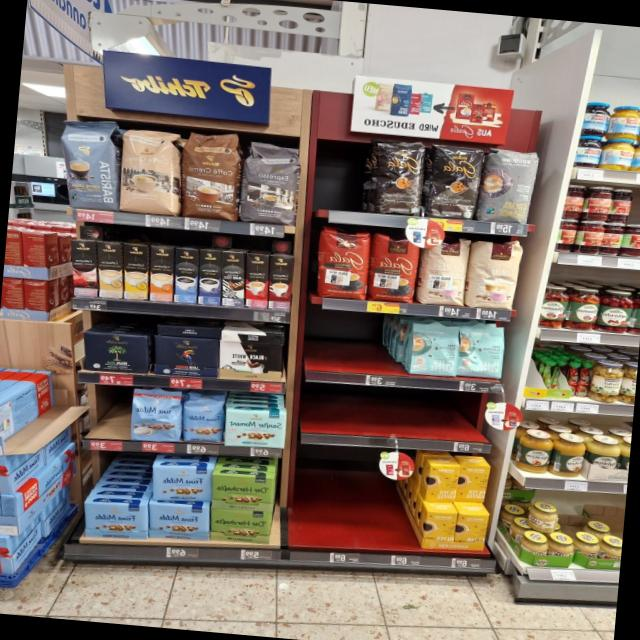BM Gemahlen: (82, 330, 149, 374)
BW Gemahlen: (217, 339, 283, 382)
Barista CC: (56, 116, 125, 214)
CC Mild: (116, 126, 184, 216)
CC Vollmundig 36 Pads: (175, 127, 246, 223)
Empty Shelf: (88, 386, 131, 439)
Espresso M Art: (236, 138, 304, 229)
FM 36 Pads: (128, 385, 186, 446)
FM Bohne: (182, 390, 226, 444)
FM Gemahlen: (148, 502, 210, 541), (82, 501, 147, 538), (151, 465, 211, 501)
Herzhatfe Mundig: (210, 473, 273, 512), (209, 507, 272, 544)
LG Gemahlen: (153, 334, 220, 379)
SM Gemahlen: (222, 407, 288, 450)
Simo CCMild bigpack: (122, 241, 150, 300)
Simo CCVollmundig bigpack: (148, 243, 176, 302)
Simo Decaff: (95, 239, 123, 299), (69, 238, 97, 298)
Simo Es Elegant: (243, 252, 269, 310)
Simo Es Kraft: (267, 253, 295, 311)
Simo Kaffee BW: (220, 250, 245, 309)
Simo Kaffee Kraft: (197, 248, 221, 306)
Simo Kaffee Mild: (172, 247, 199, 304)
